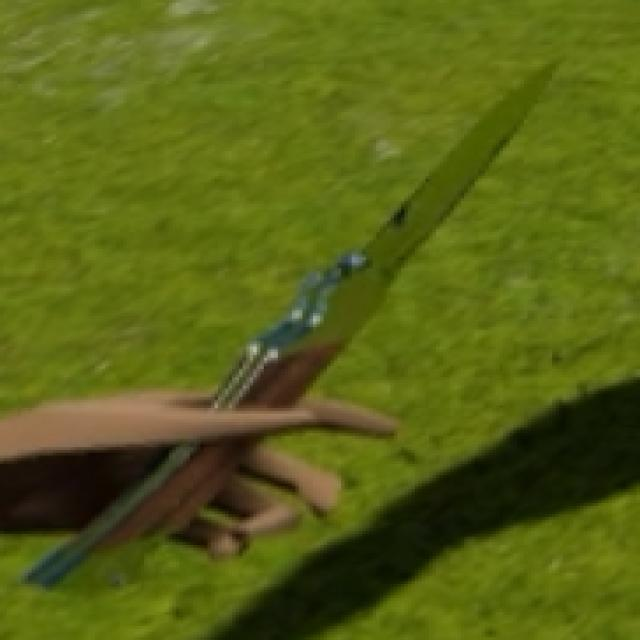knife: (106, 44, 576, 564)
